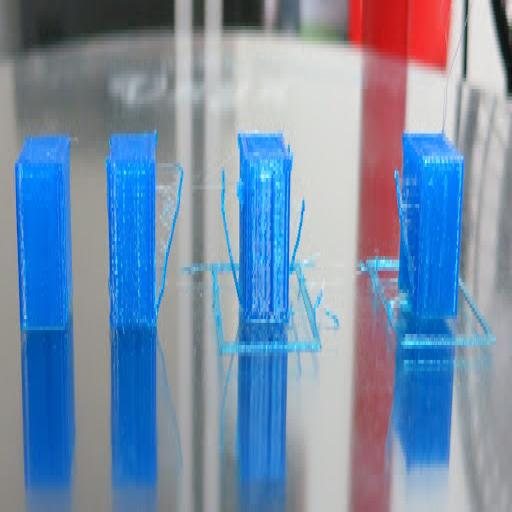stringing: (156, 154, 184, 320), (390, 158, 415, 307), (218, 168, 242, 312), (290, 186, 305, 316)
